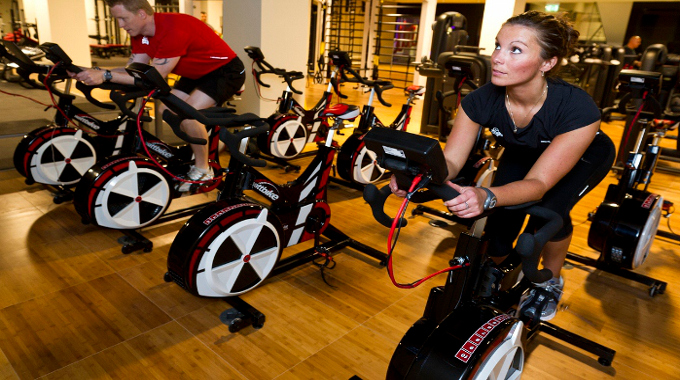gym_bike: (169, 104, 346, 300)
